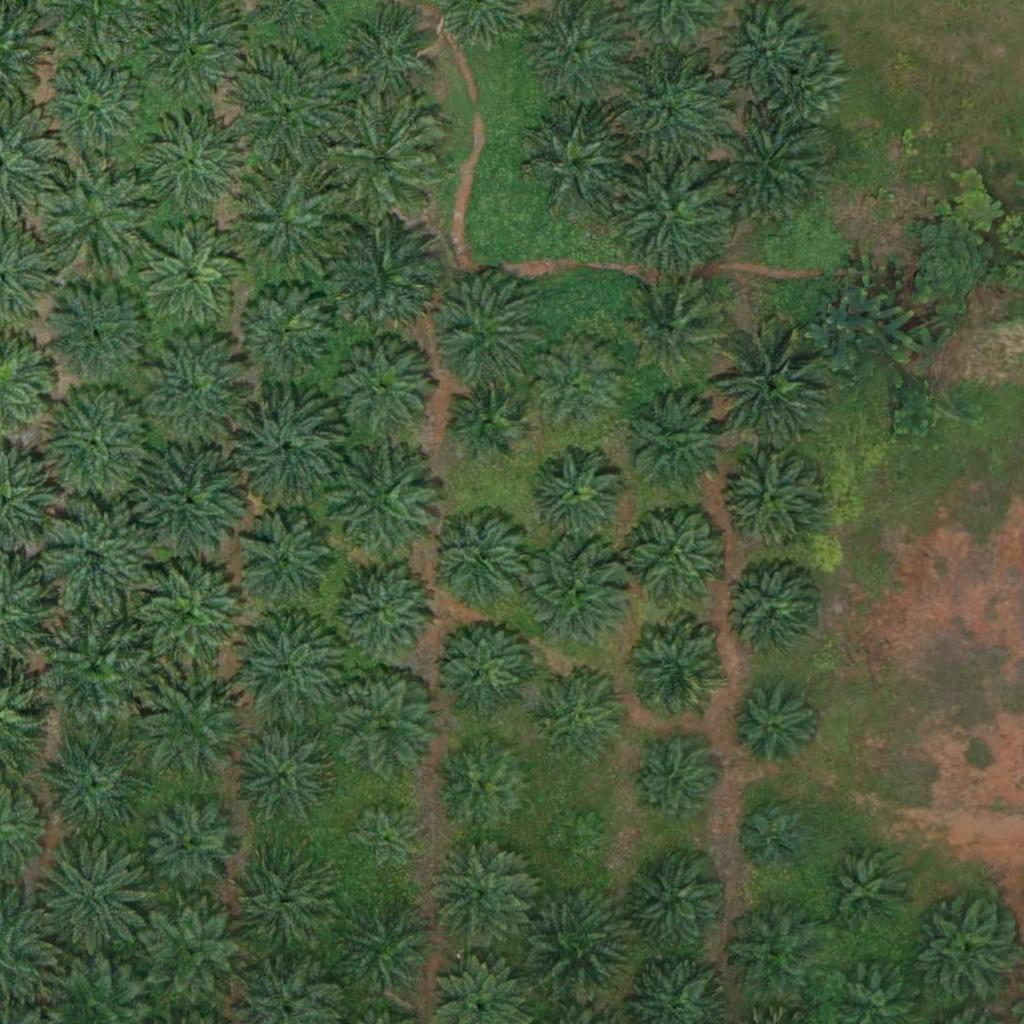Kelapa_Sawit: (323, 102, 436, 216), (427, 276, 540, 390), (619, 497, 732, 611), (517, 536, 630, 650), (37, 55, 150, 168), (41, 162, 154, 275), (38, 276, 151, 389), (141, 330, 254, 443), (133, 440, 246, 553), (612, 56, 725, 169), (714, 118, 827, 231), (618, 847, 731, 960), (234, 615, 347, 728), (135, 561, 248, 674), (136, 102, 248, 216), (231, 54, 343, 168), (228, 162, 340, 276), (328, 215, 440, 329), (325, 330, 437, 444), (717, 333, 829, 446), (37, 390, 149, 503), (38, 502, 150, 615), (229, 383, 341, 496), (327, 448, 439, 561), (521, 107, 633, 220), (617, 160, 729, 273), (622, 391, 734, 504), (520, 884, 632, 997), (137, 672, 249, 785), (40, 612, 152, 725), (36, 724, 148, 837), (38, 836, 150, 949), (627, 281, 727, 382), (527, 4, 627, 105), (140, 221, 240, 322), (235, 512, 335, 613), (335, 8, 435, 109), (721, 447, 821, 548), (723, 903, 823, 1004), (534, 666, 634, 767), (432, 615, 532, 716), (436, 734, 536, 835), (428, 842, 528, 943), (332, 560, 432, 661), (333, 672, 433, 773), (335, 898, 435, 999), (233, 721, 333, 822), (230, 854, 330, 955), (143, 798, 243, 899), (143, 901, 243, 1002), (236, 278, 336, 378), (425, 511, 525, 611), (527, 334, 627, 434), (524, 446, 624, 546), (723, 561, 823, 661), (624, 621, 724, 721), (916, 902, 1016, 1002), (728, 685, 816, 773), (823, 847, 911, 935), (723, 7, 810, 95), (758, 47, 845, 135), (630, 737, 717, 825), (448, 380, 523, 456), (346, 804, 421, 879), (741, 805, 804, 868), (543, 808, 605, 871)
